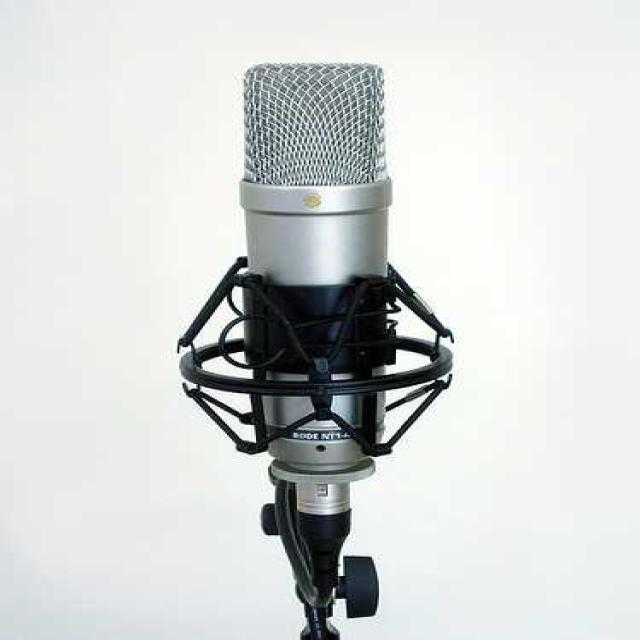microphone: (238, 65, 396, 481)
